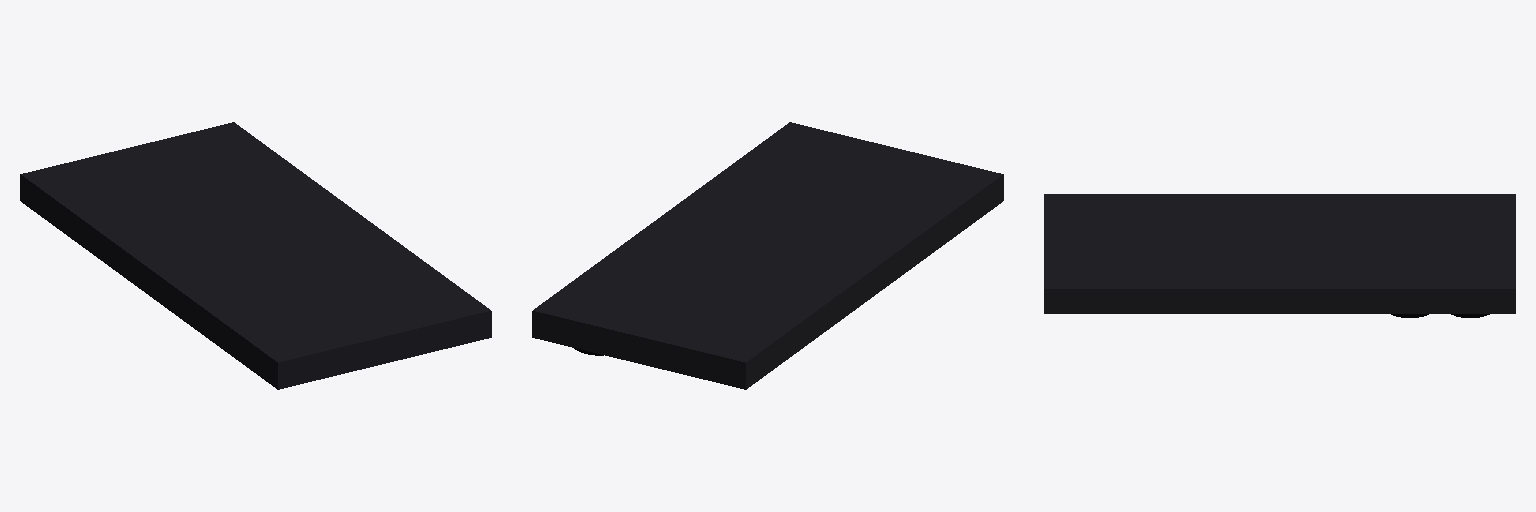
The robot description file, URDF, robot "iphone_17_pro":
<?xml version="1.0"?>
<!-- iPhone 17 Pro: generated by imuninn from Apple's dimensional drawings (iphone-frames dataset). Frames: device = display centre on the front glass (x right, y top, z out of the screen); cam_*_optical = OpenCV axes. Geometry and mass are approximate. -->
<robot name="iphone_17_pro">
  <material name="iphone_body">
    <color rgba="0.15 0.15 0.17 1" />
  </material>
  <material name="iphone_lens">
    <color rgba="0.05 0.05 0.06 1" />
  </material>
  <link name="device">
    <visual name="body">
      <origin xyz="0 0 -0.004375" rpy="0 0 0" />
      <geometry>
        <box size="0.07185 0.15001 0.00875" />
      </geometry>
      <material name="iphone_body" />
    </visual>
    <collision name="body">
      <origin xyz="0 0 -0.004375" rpy="0 0 0" />
      <geometry>
        <box size="0.07185 0.15001 0.00875" />
      </geometry>
    </collision>
    <visual name="lens_ultra_wide">
      <origin xyz="0.021555 0.060635 -0.010965" rpy="0 0 0" />
      <geometry>
        <cylinder radius="0.0081" length="0.00443" />
      </geometry>
      <material name="iphone_lens" />
    </visual>
    <visual name="lens_main">
      <origin xyz="0.021555 0.041395 -0.010965" rpy="0 0 0" />
      <geometry>
        <cylinder radius="0.0081" length="0.00443" />
      </geometry>
      <material name="iphone_lens" />
    </visual>
    <visual name="lens_telephoto">
      <origin xyz="0.003565 0.051015 -0.010965" rpy="0 0 0" />
      <geometry>
        <cylinder radius="0.0081" length="0.00443" />
      </geometry>
      <material name="iphone_lens" />
    </visual>
    <inertial>
      <origin xyz="0 0 -0.004375" rpy="0 0 0" />
      <mass value="0.217" />
      <inertia ixx="0.000408314" ixy="0" ixz="0" iyy="9.47383e-05" iyz="0" izz="0.000500283" />
    </inertial>
  </link>
  <link name="magsafe" />
  <joint name="device_to_magsafe" type="fixed">
    <parent link="device" />
    <child link="magsafe" />
    <origin xyz="5e-06 -0.002735 -0.00875" rpy="3.14159265 0 3.14159265" />
  </joint>
  <link name="cam_ultra_wide_optical" />
  <joint name="device_to_cam_ultra_wide_optical" type="fixed">
    <parent link="device" />
    <child link="cam_ultra_wide_optical" />
    <origin xyz="0.021555 0.060635 -0.01318" rpy="3.14159265 0 -1.57079633" />
  </joint>
  <link name="cam_main_optical" />
  <joint name="device_to_cam_main_optical" type="fixed">
    <parent link="device" />
    <child link="cam_main_optical" />
    <origin xyz="0.021555 0.041395 -0.01318" rpy="3.14159265 0 -1.57079633" />
  </joint>
  <link name="cam_telephoto_optical" />
  <joint name="device_to_cam_telephoto_optical" type="fixed">
    <parent link="device" />
    <child link="cam_telephoto_optical" />
    <origin xyz="0.003565 0.051015 -0.01318" rpy="3.14159265 0 -1.57079633" />
  </joint>
  <link name="cam_front_optical" />
  <joint name="device_to_cam_front_optical" type="fixed">
    <parent link="device" />
    <child link="cam_front_optical" />
    <origin xyz="0.007335 0.067015 0" rpy="0 0 -1.57079633" />
  </joint>
  <link name="imu" />
  <joint name="device_to_imu" type="fixed">
    <parent link="device" />
    <child link="imu" />
    <origin xyz="0 0 0" rpy="0 0 0" />
  </joint>
</robot>

--- Render facts (derived) ---
Views: 3 orthographic renders of the robot side by side, from view 1: azimuth 30°, elevation 25°; view 2: azimuth 150°, elevation 25°; view 3: azimuth 270°, elevation 25°.
Robot: iphone_17_pro — 7 links, 6 joints (6 fixed); root link device; default pose: all joints at 0.
Visible links, largest first — view 1: device; view 2: device; view 3: device.
Boxes of the visible links, bbox=[...] form: device: bbox=[20, 122, 491, 389]; device: bbox=[532, 122, 1003, 389]; device: bbox=[1044, 194, 1515, 317].
Bounding box of the posed robot: 0.0719 × 0.15 × 0.0132 m (x, y, z).
Geometry: primitives only (box / cylinder / sphere), no mesh files.
